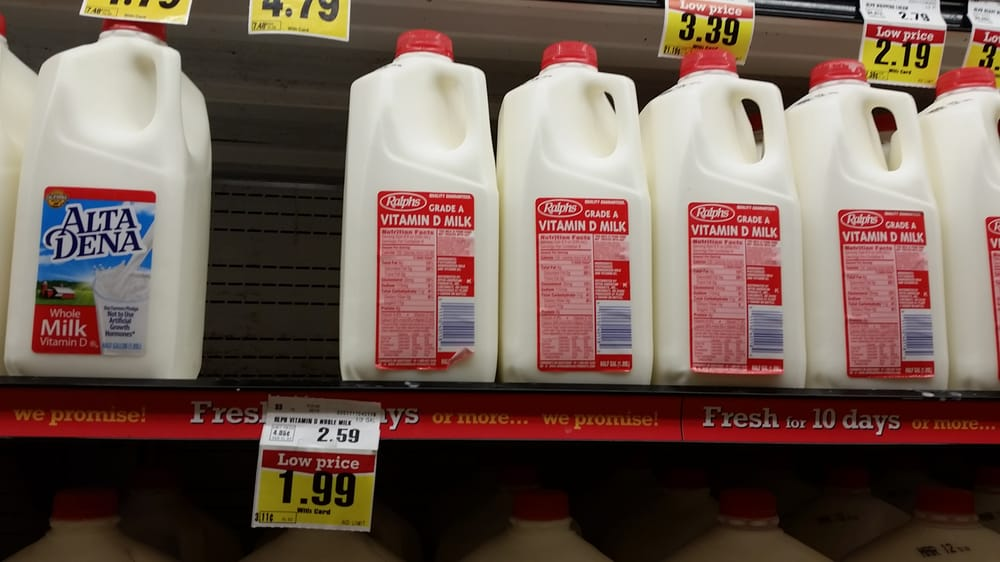milk: (29, 19, 209, 382), (647, 33, 808, 384), (346, 33, 502, 386), (498, 38, 657, 384), (794, 67, 956, 398), (938, 64, 1000, 353)
